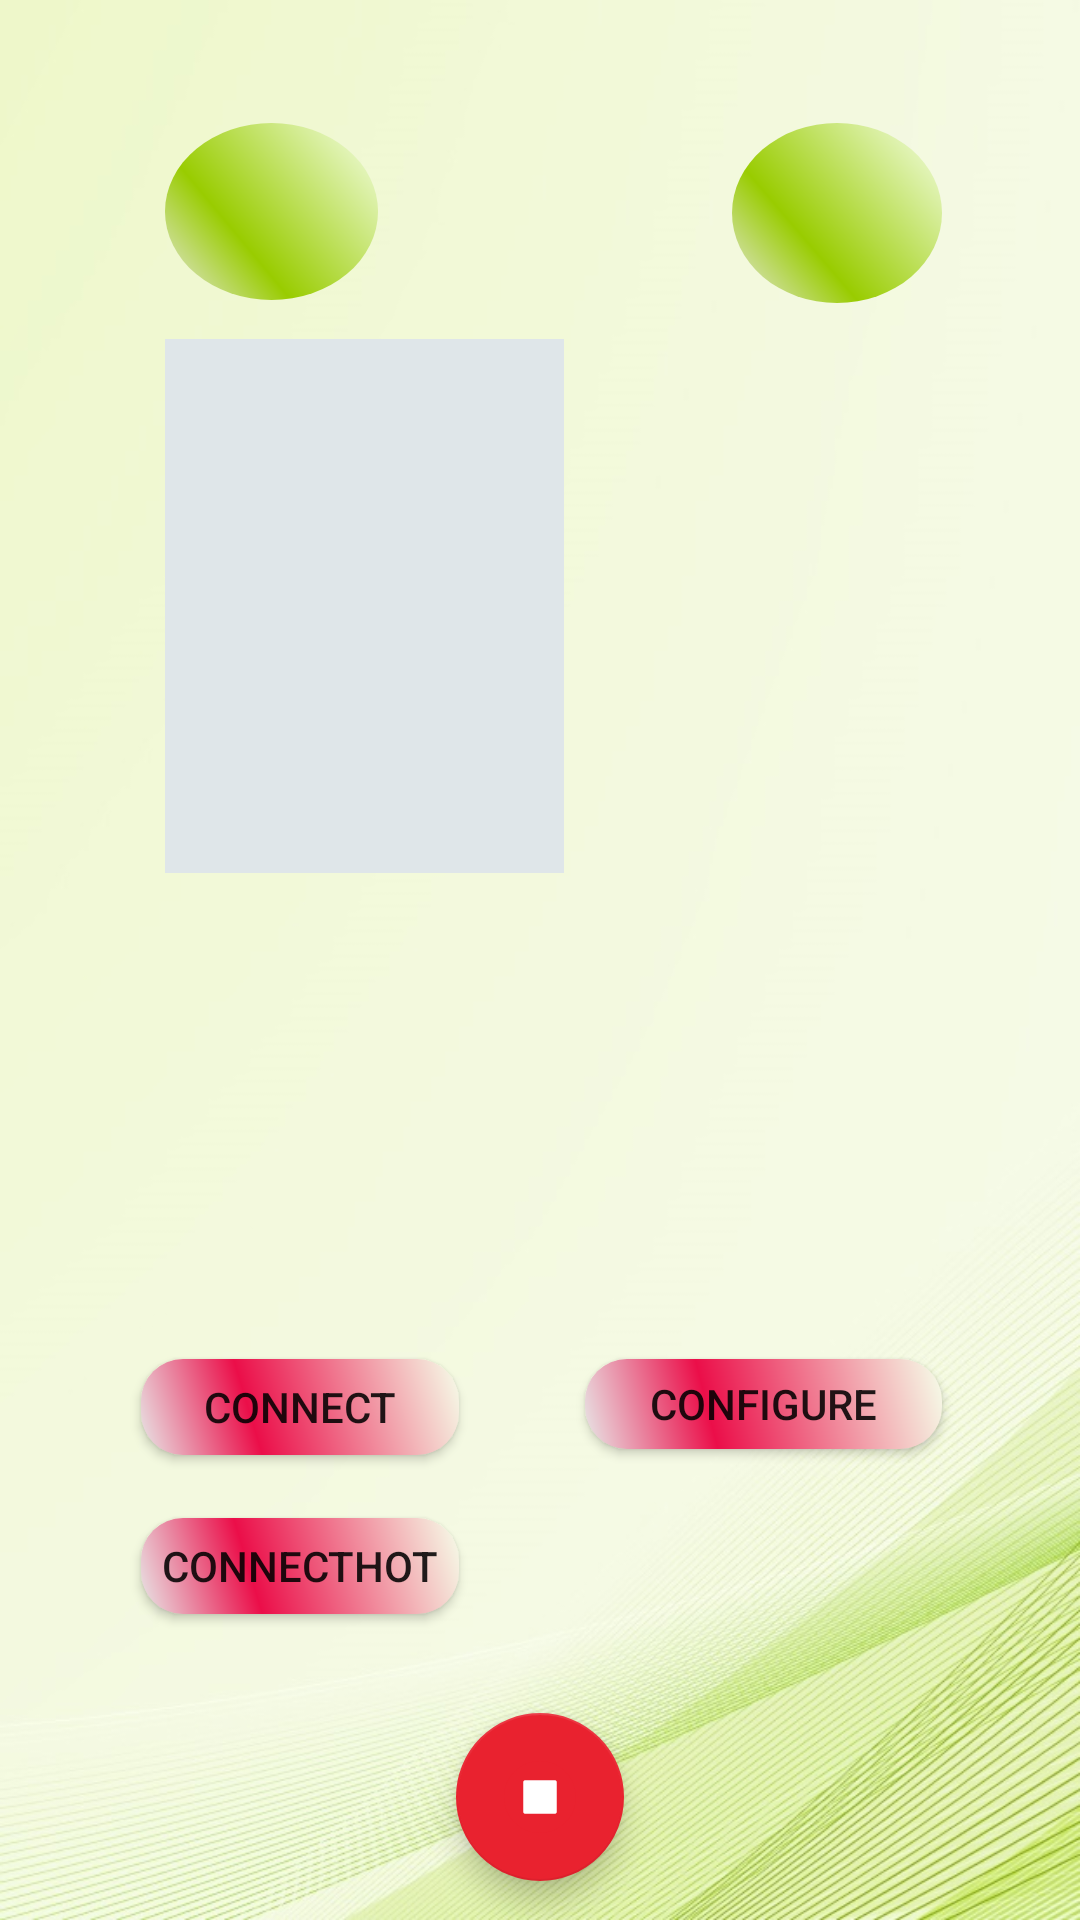

Point at icon controls on the screen. Image size 1080 x 1920, points as (x,y).
stop: (540,1797)
